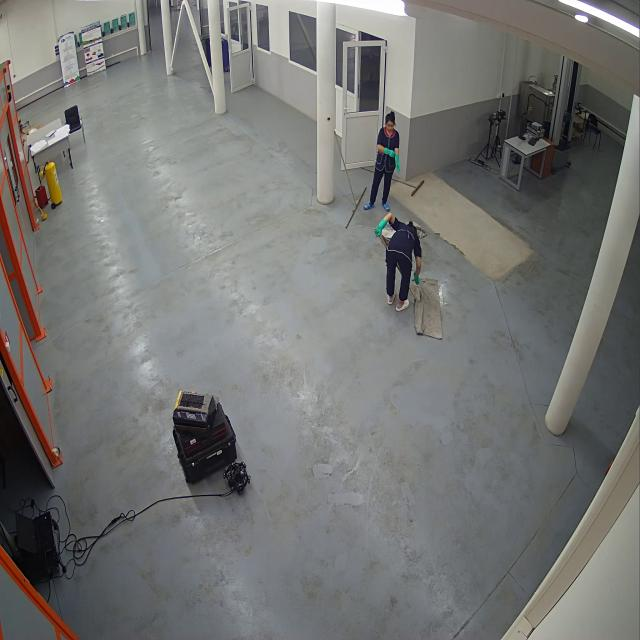NO-Hardhat: (385, 108, 397, 125)
Person: (372, 207, 426, 313), (366, 106, 401, 212)
